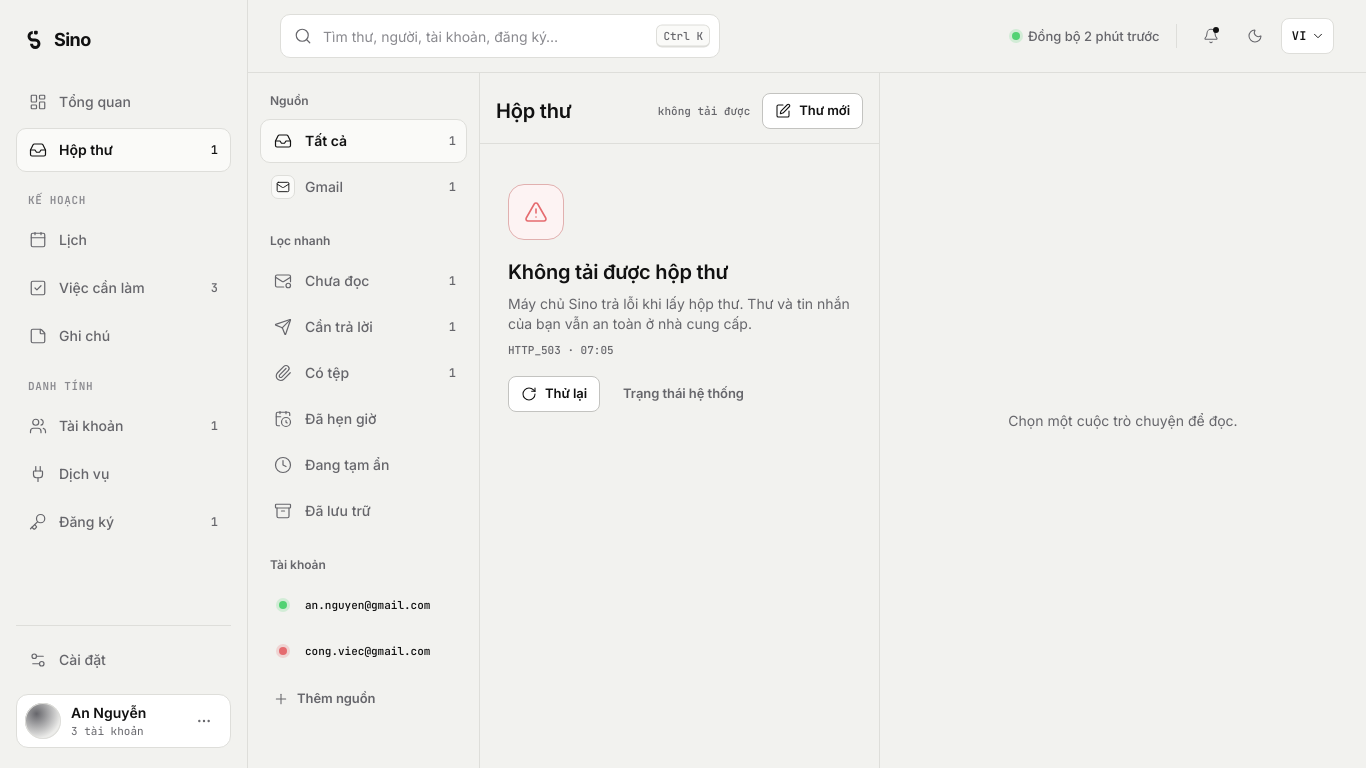
Test: Hộp thư on the F05 API (FE-50) › says when the list cannot load, and loads it on retry
Expected: the heading "Không tải được hộp thư" is shown, [508,260,728,284]
Expected: the text "Máy chủ Sino trả lỗi khi lấy hộp thư. Thư và tin nhắn của bạn vẫn an toàn ở nhà cung cấp." is shown, [508,295,850,332]
Click the button "Thử lại" at point(554, 394), box [508,376,600,412]
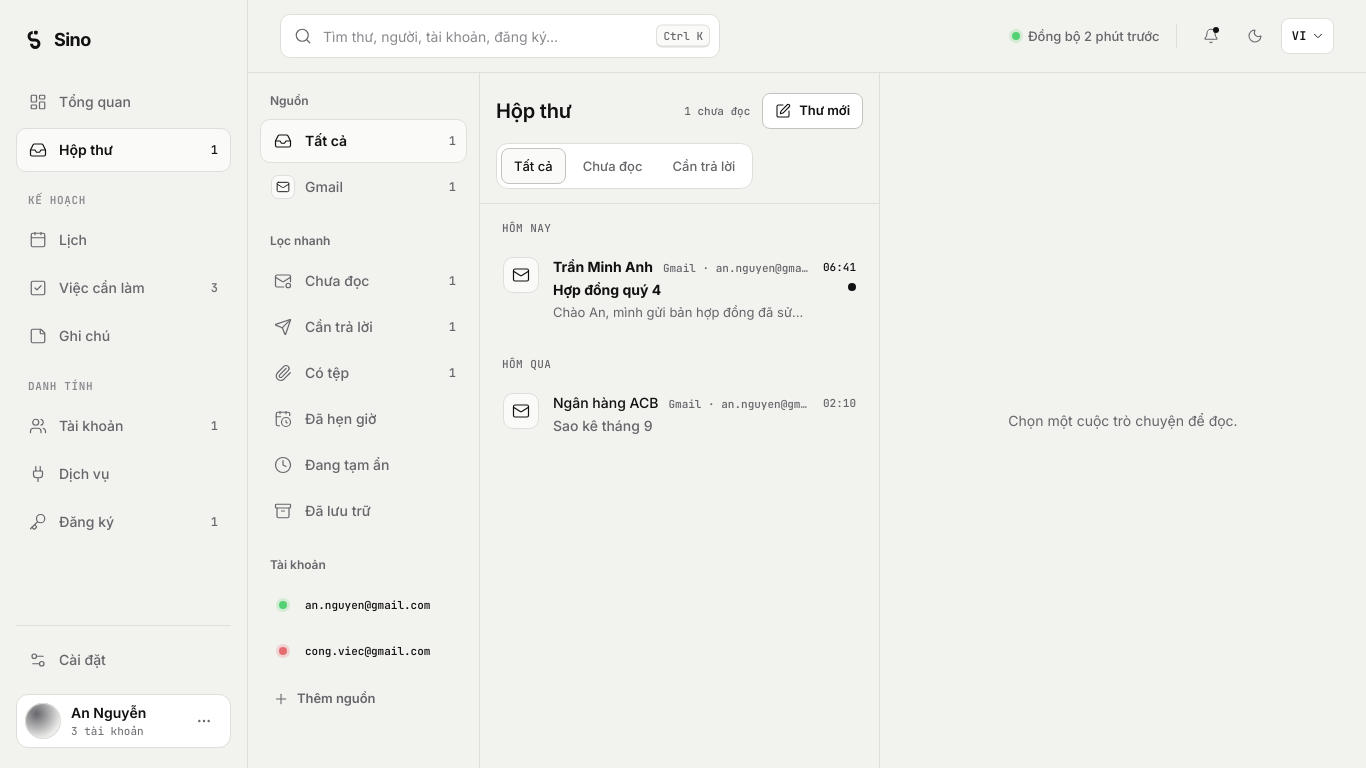
Result: the link "Trần Minh Anh" is shown at [488,242,871,336]
